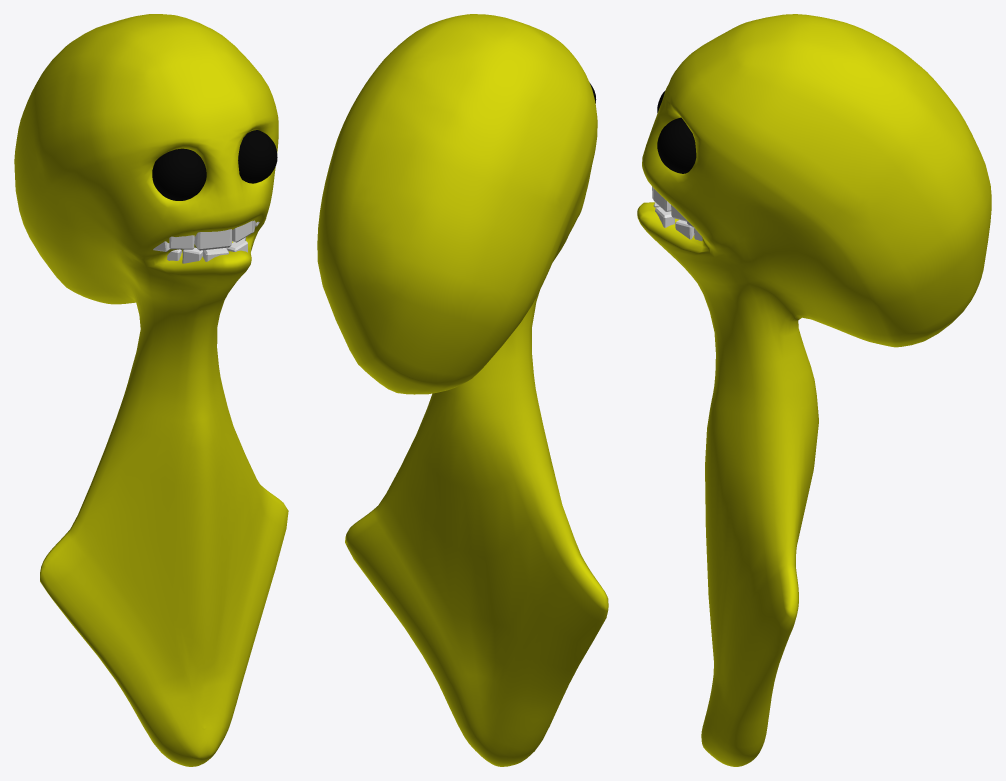
File: YellowAlienFBX.fbx
3 views of the same model, side by side, from view 1: azimuth 30°, elevation 25°; view 2: azimuth 150°, elevation 25°; view 3: azimuth 270°, elevation 25° (orthographic). The views are drawn at different scales.
Parts seen in each view (by area): view 1: pSphere7; view 2: pSphere7; view 3: pSphere7.
Boxes of the visible parts, <box> form: pSphere7: <box>14,14,288,766</box>; pSphere7: <box>317,14,608,766</box>; pSphere7: <box>637,14,991,766</box>.
Size of the model in its own units: 10.11 by 27.91 by 12.13.
